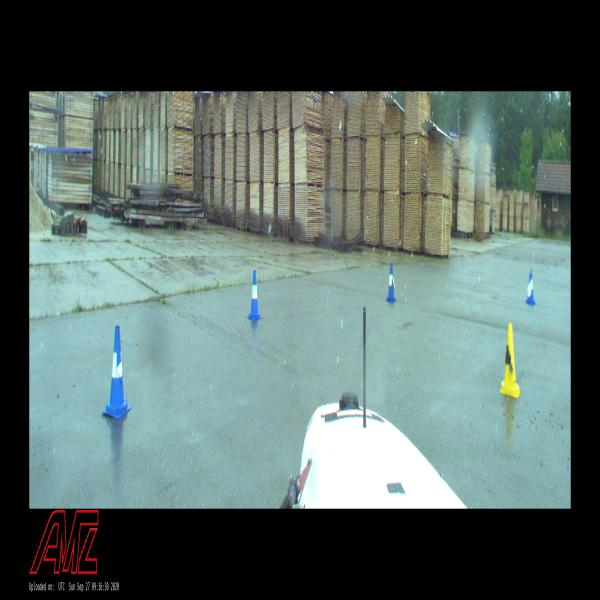blue_cone: (102, 325, 131, 418), (248, 270, 262, 320), (386, 263, 396, 301), (526, 269, 536, 305)
yellow_cone: (500, 323, 520, 398)
